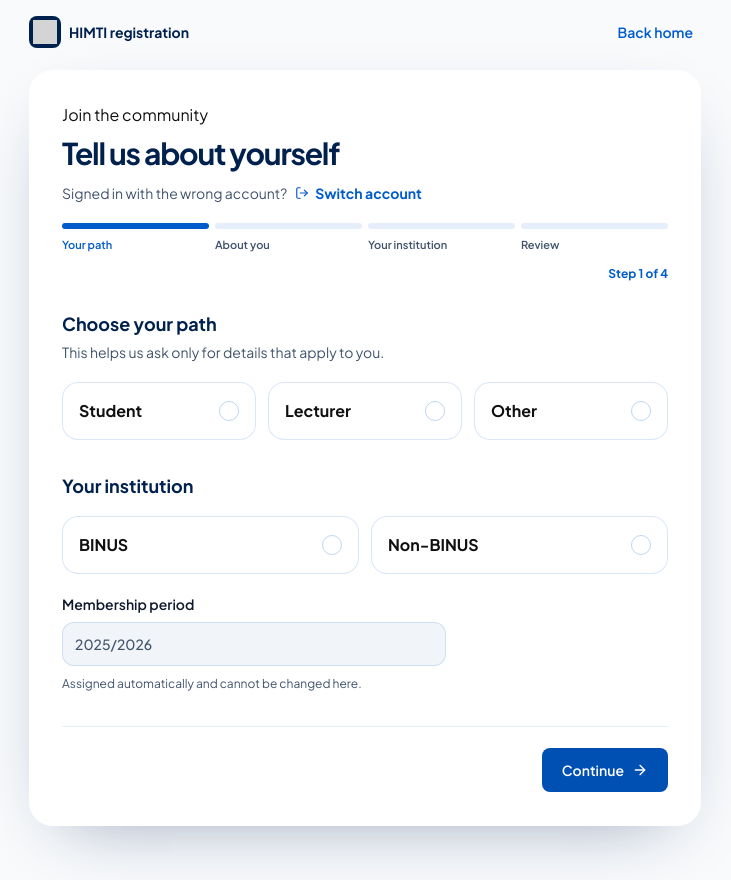
renders the registration wizard and advances through the first step
The image size is (731, 880).
Expected: the heading "Tell us about yourself" is shown, x1=62 y1=134 x2=339 y2=172
Expected: the text "Signed in with the wrong account?" is shown, x1=62 y1=183 x2=287 y2=203
Click the button "Student": (159, 410) x1=62 y1=382 x2=256 y2=440
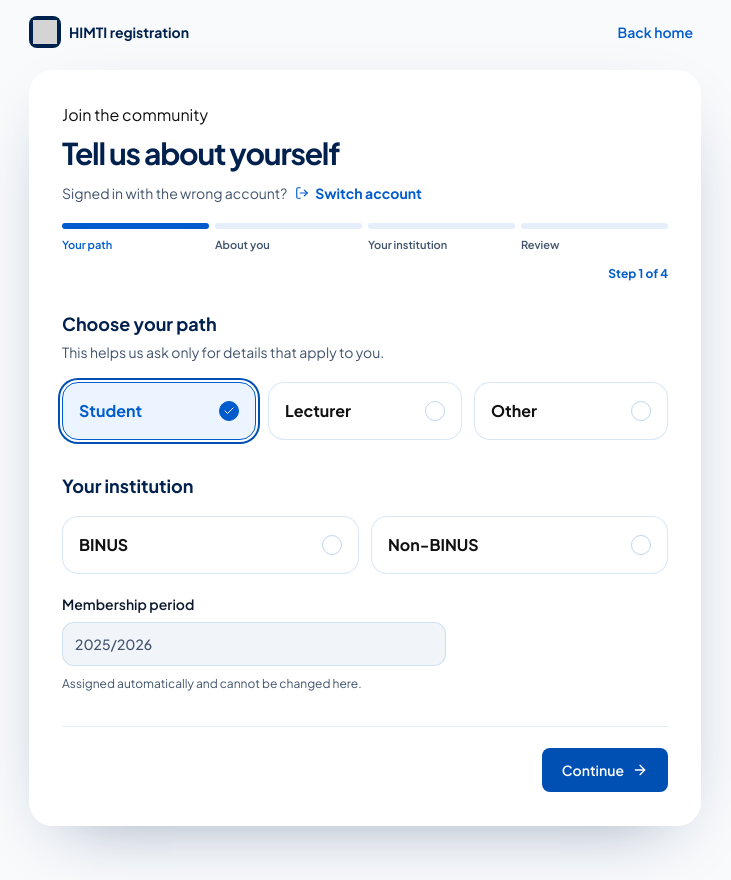
Click the button "BINUS": (104, 544) x1=62 y1=516 x2=359 y2=574
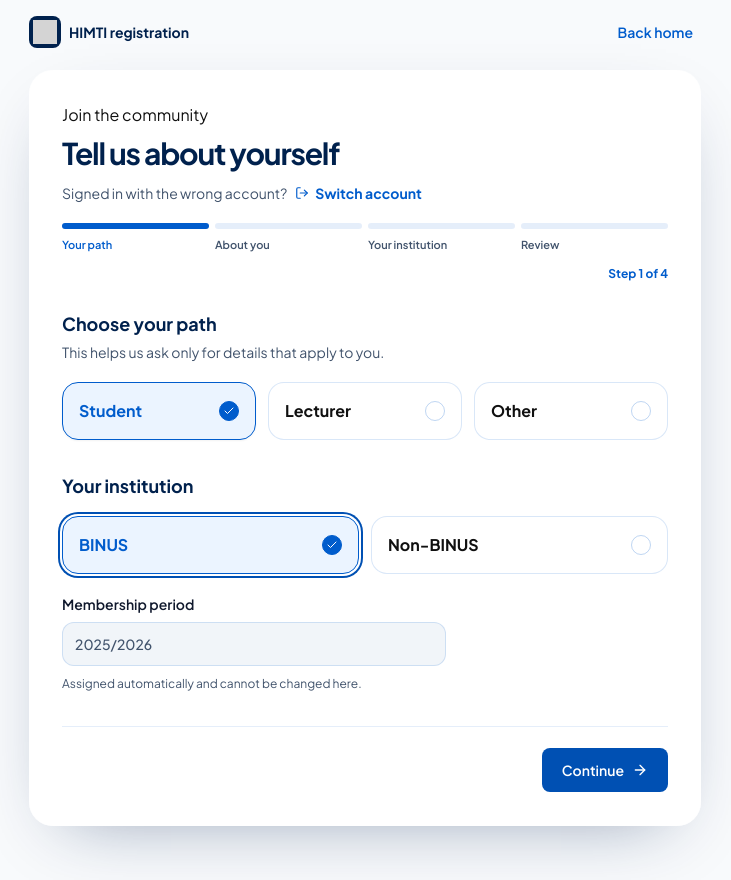
Click the button "Continue": (605, 770) x1=542 y1=748 x2=668 y2=792
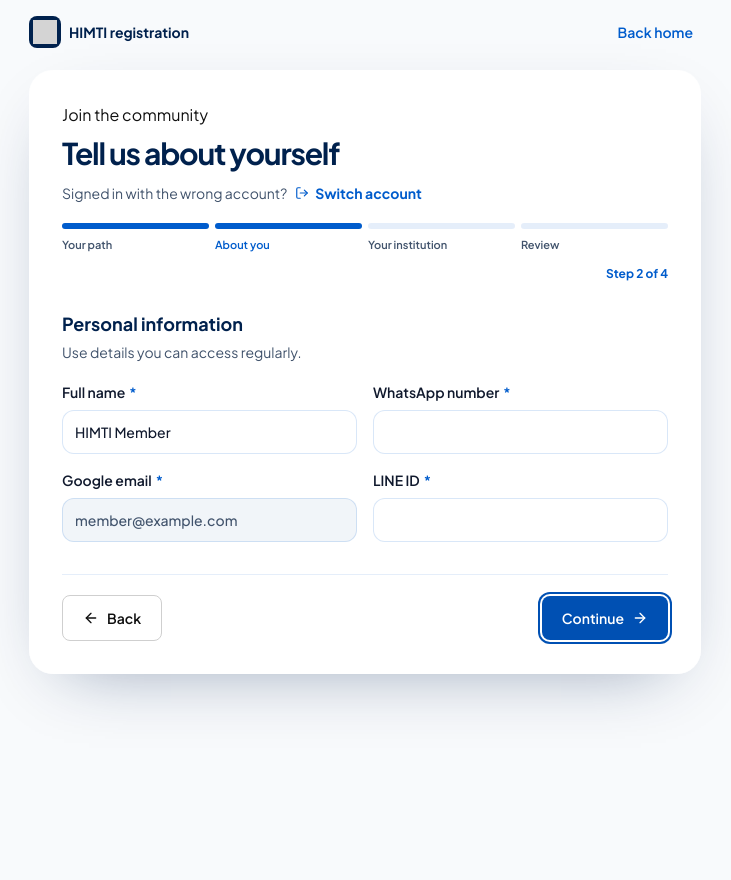
Now the field labelled "Full name*" is shown, box x1=62 y1=410 x2=357 y2=454
